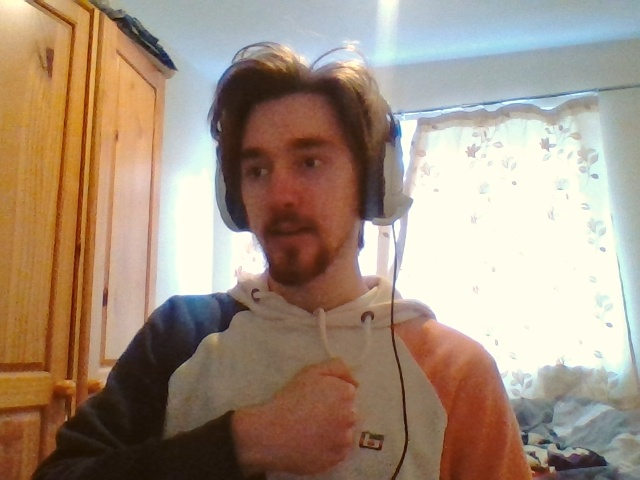morning: (268, 356, 358, 473)
